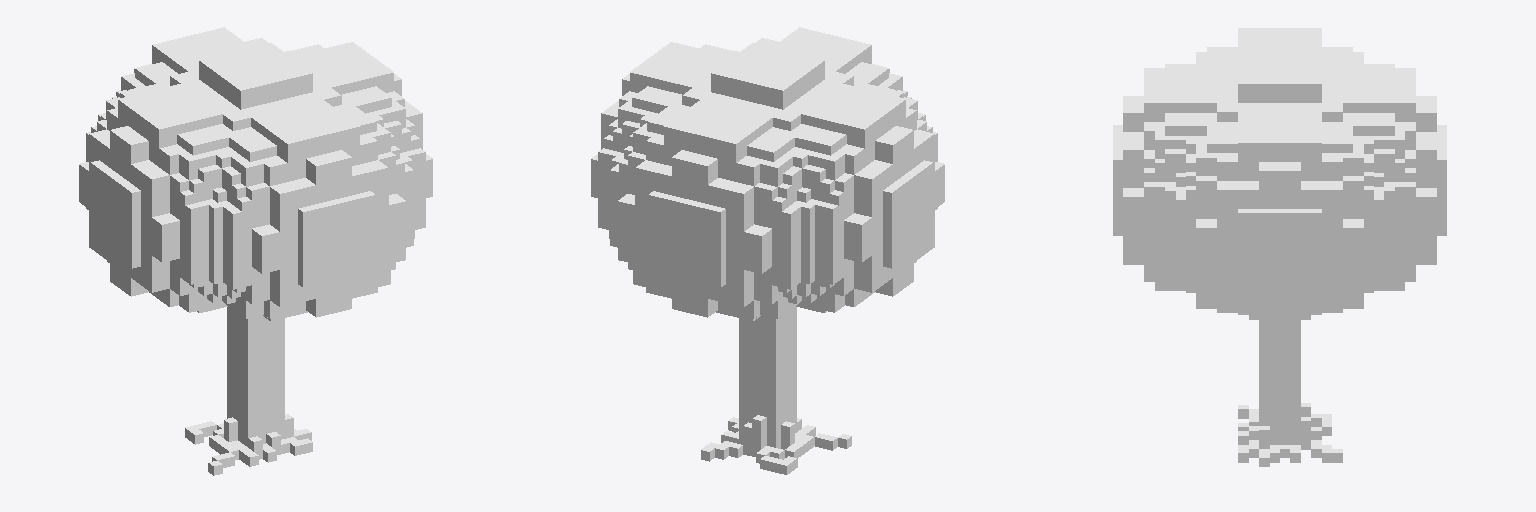
File: treeV2.obj
3 views of the same model, side by side, from view 1: azimuth 30°, elevation 25°; view 2: azimuth 150°, elevation 25°; view 3: azimuth 270°, elevation 25° (orthographic).
Visible parts, largest first — view 1: object 1; view 2: object 1; view 3: object 1.
Part boxes in pixels (x1,y1,x2,y2): object 1: (79,27,432,475); object 1: (591,27,944,474); object 1: (1113,28,1446,466).
Size of the model in its own units: 3.2 by 4 by 3.2.